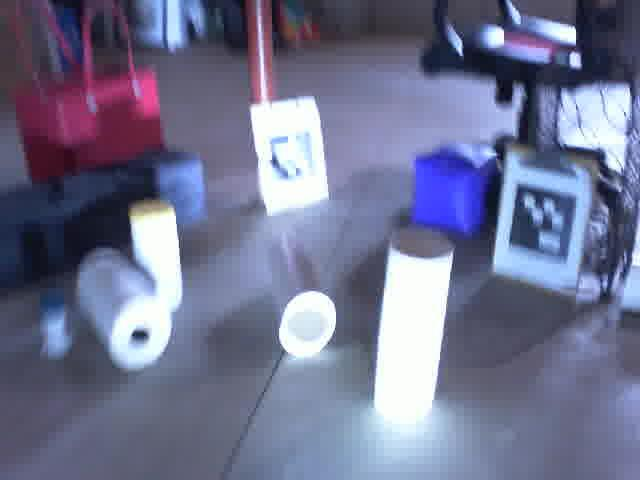coral: (366, 229, 460, 425), (259, 230, 331, 362)
